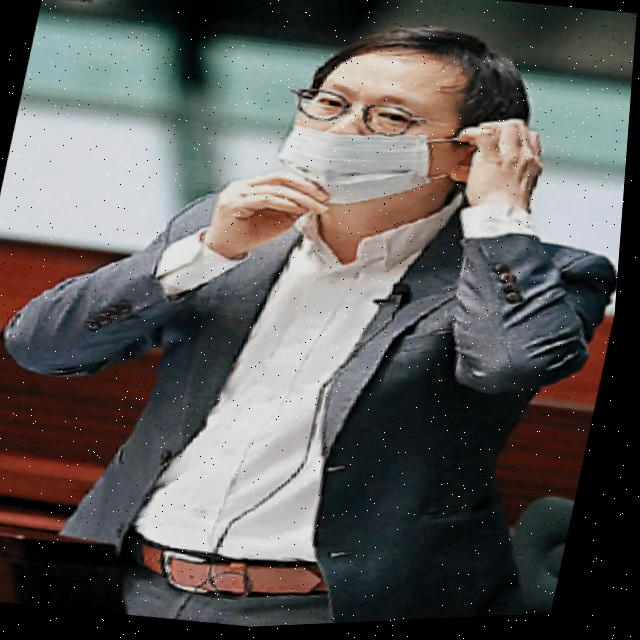Mask: (275, 104, 513, 228)
